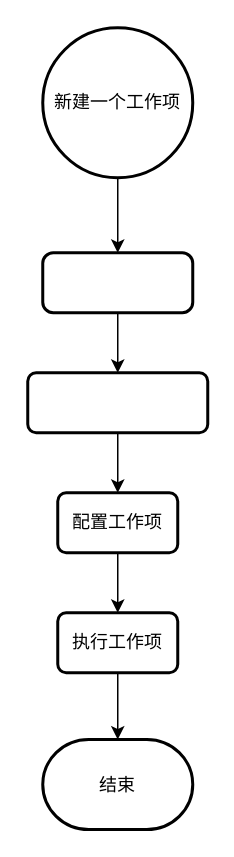
This 234x857 diagram has some shape labels left out. Here are the shapes that lost their labels. From the top down, the box of each, then its label:
(40, 250, 194, 314): 选择工作项类型
(26, 370, 208, 434): 初始化工作项配置
